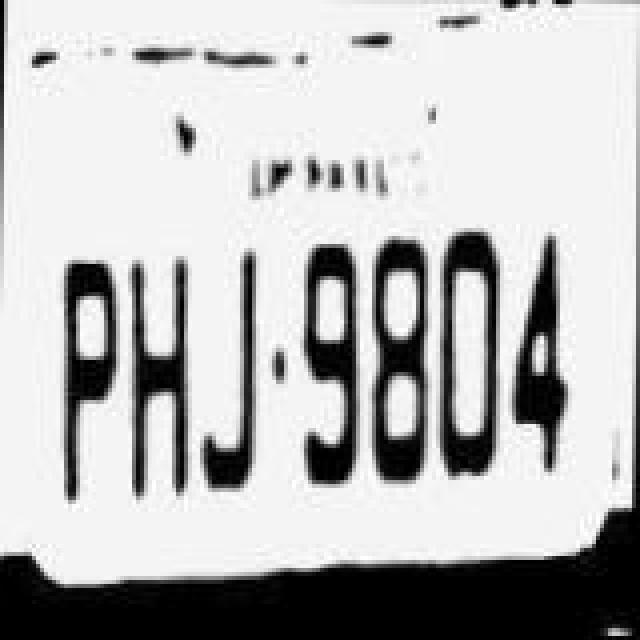4: (506, 236, 586, 500)
8: (364, 238, 440, 490)
9: (296, 234, 372, 514)
H: (124, 250, 204, 522)
J: (198, 248, 274, 512)
O: (432, 214, 508, 490)
P: (46, 262, 130, 530)
